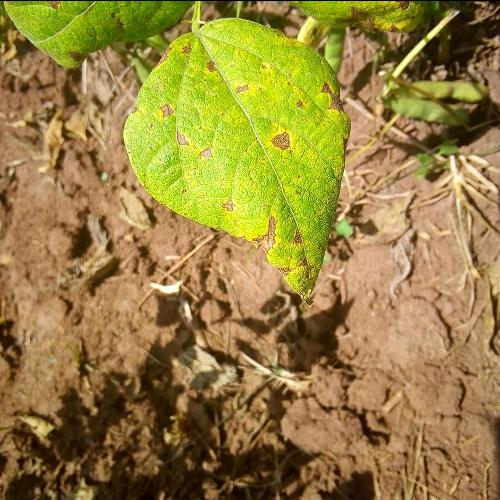mozaik: (134, 5, 348, 304)
